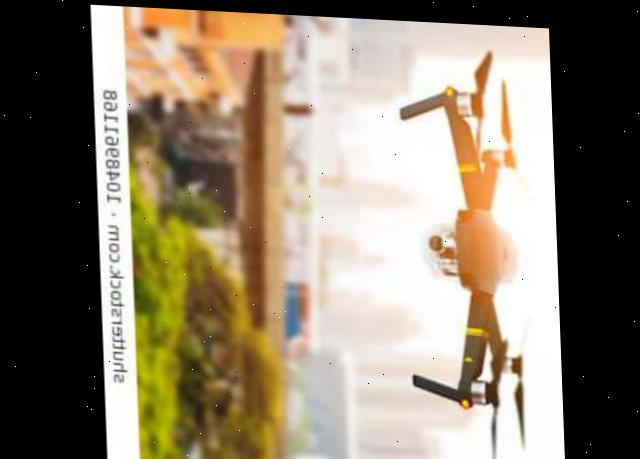drone: (90, 4, 482, 459)
